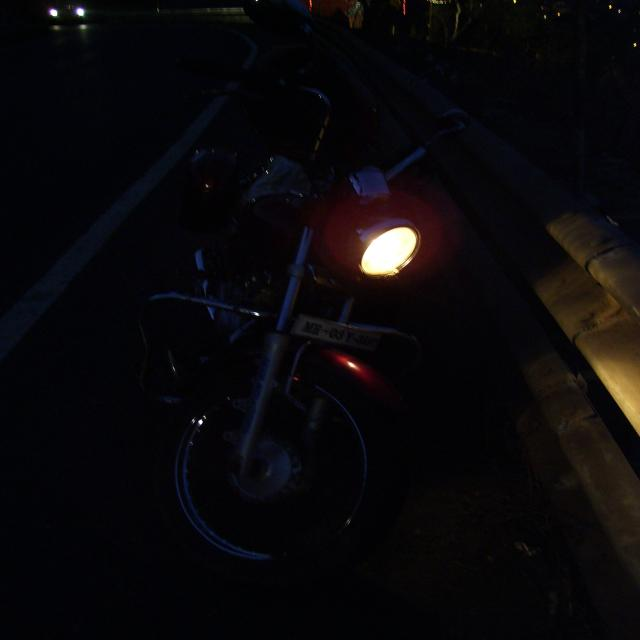Motorbike: (122, 130, 463, 592)
